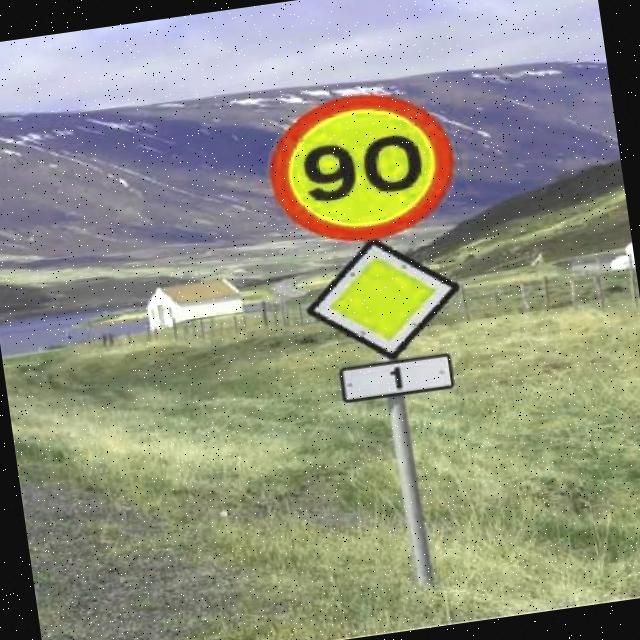Ograniczenie predkosci do 90: (261, 84, 460, 252)
